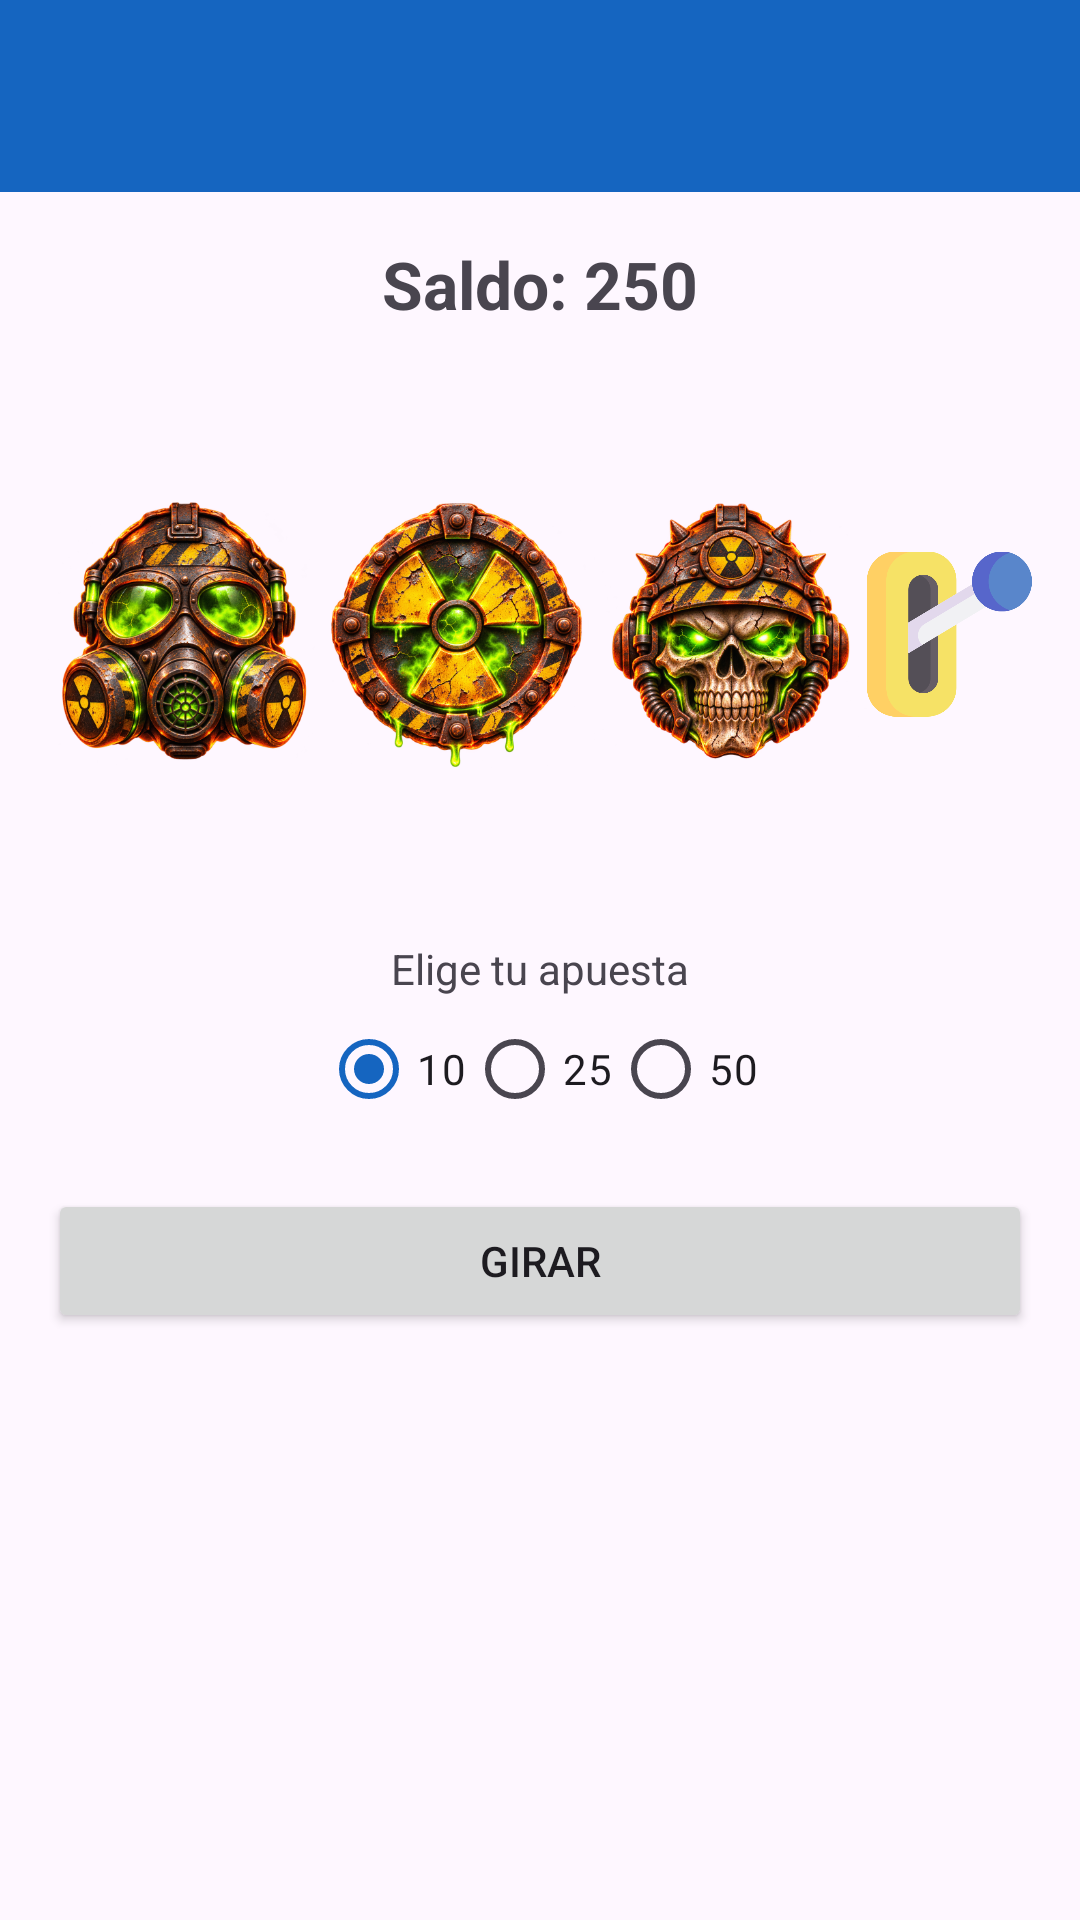

Where to tap for icons on this 1080w x 1920h app screen, as (x=x, y=y):
Palanca de la tragaperras: (x=949, y=634)
Rodillo 2: (x=456, y=635)
Rodillo 3: (x=731, y=631)
